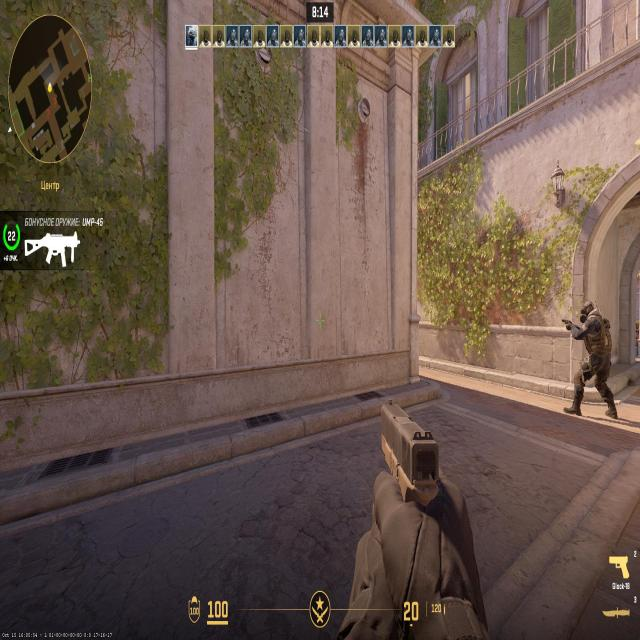CT: (580, 302, 608, 396)
CT_heat: (586, 300, 593, 326)
